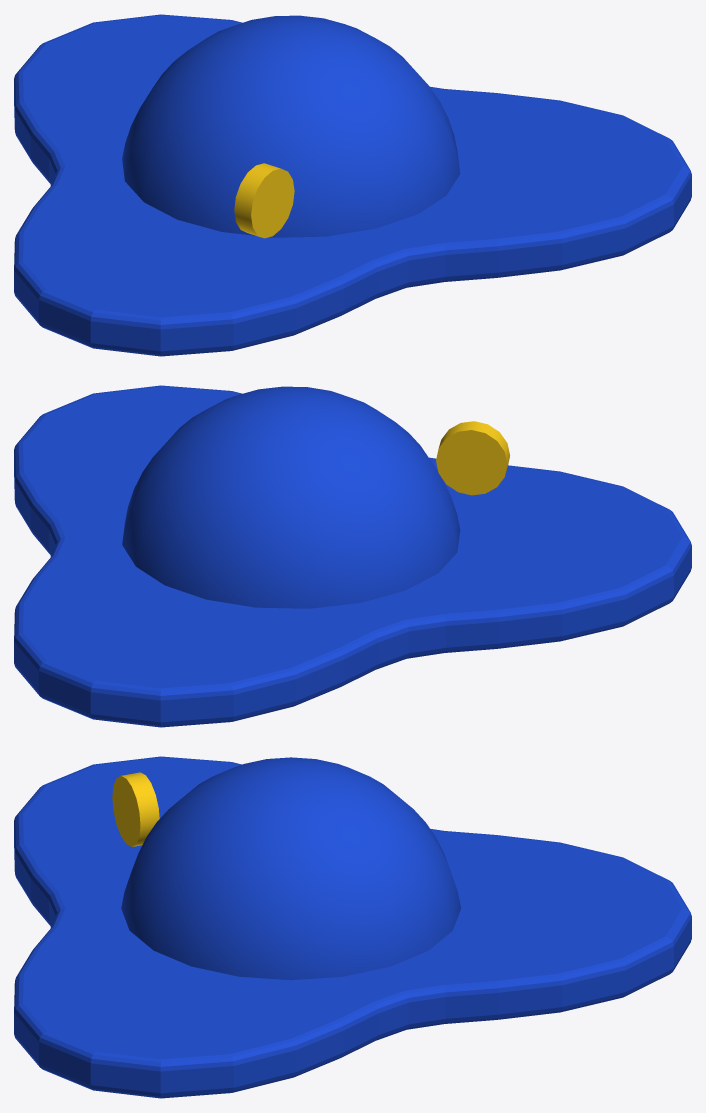
Rendered from captain.glb.
3 views of the same model, one above another, from view 1: azimuth 30°, elevation 25°; view 2: azimuth 150°, elevation 25°; view 3: azimuth 270°, elevation 25° (orthographic).
Visible parts, largest first — view 1: tricorne_brim, tricorne_crown, tricorne_emblem; view 2: tricorne_brim, tricorne_crown, tricorne_emblem; view 3: tricorne_brim, tricorne_crown, tricorne_emblem.
Part boxes in pixels (left/top/right/bottom): tricorne_brim: left=14, top=14, right=691, bottom=356; tricorne_crown: left=122, top=15, right=460, bottom=237; tricorne_emblem: left=234, top=163, right=294, bottom=238; tricorne_brim: left=14, top=385, right=691, bottom=727; tricorne_crown: left=122, top=386, right=460, bottom=608; tricorne_emblem: left=436, top=421, right=509, bottom=495; tricorne_brim: left=14, top=756, right=691, bottom=1098; tricorne_crown: left=121, top=757, right=461, bottom=980; tricorne_emblem: left=112, top=772, right=159, bottom=846.
Size of the model in its own units: 0.4871 by 0.1283 by 0.4503.
